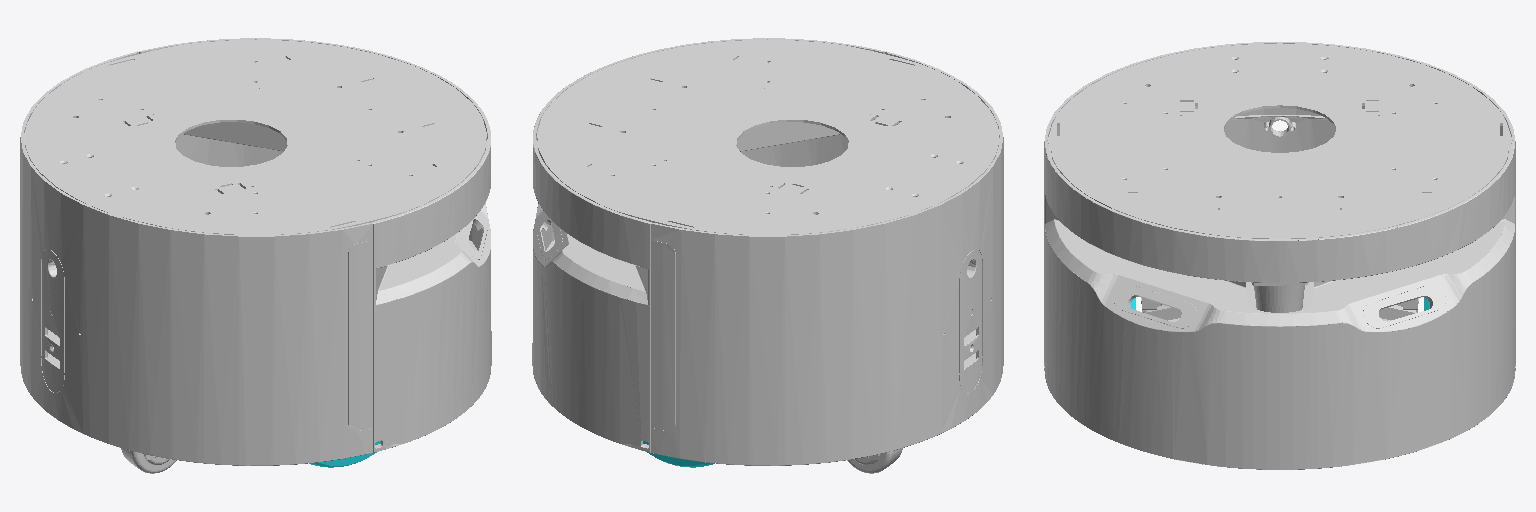
robot.urdf — openarm_base:
<?xml version="1.0" ?>
<!-- =================================================================================== -->
<!-- |    This document was autogenerated by xacro from urdf/robot/base.urdf.xacro     | -->
<!-- |    EDITING THIS FILE BY HAND IS NOT RECOMMENDED                                 | -->
<!-- =================================================================================== -->
<robot name="openarm_base">
  <material name="openarm_base_body_light">
    <color rgba="0.894117647058823 0.894117647058823 0.894117647058823 1"/>
  </material>
  <material name="openarm_base_drive_wheel_cyan">
    <color rgba="0.188235294117647 0.866666666666667 0.917647058823529 1"/>
  </material>
  <link name="world"/>
  <joint name="openarm_base_joint_to_world" type="fixed">
    <parent link="world"/>
    <child link="openarm_base_link"/>
    <origin rpy="0 0 0" xyz="0 0 0.39"/>
  </joint>
  <link name="openarm_base_link">
    <inertial>
      <origin rpy="0 0 0" xyz="0.0139877464492624 -5.68244441146032E-05 -0.124578208571542"/>
      <mass value="3.52850301341702"/>
      <inertia ixx="0.0829124179160909" ixy="6.52576053503441E-06" ixz="0.000467807221413584" iyy="0.0400047585590855" iyz="-5.94413923106993E-06" izz="0.098624358497588"/>
    </inertial>
    <visual>
      <origin rpy="0 0 0" xyz="0 0 0"/>
      <geometry>
        <mesh filename="package://openarm_description/meshes/base/visual/base_link.STL"/>
      </geometry>
      <material name="openarm_base_body_light"/>
    </visual>
    <collision>
      <origin rpy="0 0 0" xyz="0 0 0"/>
      <geometry>
        <mesh filename="package://openarm_description/meshes/base/collision/base_link.STL"/>
      </geometry>
    </collision>
  </link>
  <link name="openarm_base_right_drive_wheel_link">
    <inertial>
      <origin rpy="0 0 0" xyz="2.91165459323788E-11 -6.43526715232018E-07 0.0369779577265139"/>
      <mass value="1.14125095338992"/>
      <inertia ixx="0.00208401824386845" ixy="-1.79853323308109E-13" ixz="-1.90807139016711E-12" iyy="0.00208405095959488" iyz="5.27813516021113E-07" izz="0.00352927857061764"/>
    </inertial>
    <visual>
      <origin rpy="0 0 0" xyz="0 0 0"/>
      <geometry>
        <mesh filename="package://openarm_description/meshes/base/visual/right_drive_wheel_link.STL"/>
      </geometry>
      <material name="openarm_base_drive_wheel_cyan"/>
    </visual>
    <collision>
      <origin rpy="0 0 0" xyz="0 0 0"/>
      <geometry>
        <mesh filename="package://openarm_description/meshes/base/collision/right_drive_wheel_link.STL"/>
      </geometry>
    </collision>
  </link>
  <joint name="openarm_base_right_drive_wheel_joint" type="continuous">
    <origin rpy="-1.5707963267949 0 0" xyz="-0.00217824370780602 -0.218924944717817 -0.224330452201286"/>
    <parent link="openarm_base_link"/>
    <child link="openarm_base_right_drive_wheel_link"/>
    <axis xyz="0 0.000125537276711018 0.999999992120196"/>
  </joint>
  <link name="openarm_base_left_drive_wheel_link">
    <inertial>
      <origin rpy="0 0 0" xyz="-3.18491113710862E-11 -6.43526715214671E-07 -0.0369779577265139"/>
      <mass value="1.14125095338992"/>
      <inertia ixx="0.00208401824386845" ixy="1.96732400865809E-13" ixz="-2.08714142198925E-12" iyy="0.00208405095959488" iyz="-5.27813516020045E-07" izz="0.00352927857061764"/>
    </inertial>
    <visual>
      <origin rpy="0 0 0" xyz="0 0 0"/>
      <geometry>
        <mesh filename="package://openarm_description/meshes/base/visual/left_drive_wheel_link.STL"/>
      </geometry>
      <material name="openarm_base_drive_wheel_cyan"/>
    </visual>
    <collision>
      <origin rpy="0 0 0" xyz="0 0 0"/>
      <geometry>
        <mesh filename="package://openarm_description/meshes/base/collision/left_drive_wheel_link.STL"/>
      </geometry>
    </collision>
  </link>
  <joint name="openarm_base_left_drive_wheel_joint" type="continuous">
    <origin rpy="-1.5707963267949 0 0" xyz="-0.00217793050105813 0.218879130112312 -0.224330452201204"/>
    <parent link="openarm_base_link"/>
    <child link="openarm_base_left_drive_wheel_link"/>
    <axis xyz="0 0.000125537276710988 -0.999999992120196"/>
  </joint>
  <link name="openarm_base_fr_caster_link">
    <inertial>
      <origin rpy="0 0 0" xyz="-0.0210296737391897 2.66276711600594E-05 -0.0404565446191801"/>
      <mass value="0.174999250427368"/>
      <inertia ixx="8.59598402931729E-05" ixy="1.30108354990252E-07" ixz="-7.86718942953962E-06" iyy="9.65979989897865E-05" iyz="2.17811240261892E-07" izz="7.64688653952788E-05"/>
    </inertial>
    <visual>
      <origin rpy="0 0 0" xyz="0 0 0"/>
      <geometry>
        <mesh filename="package://openarm_description/meshes/base/visual/fr_caster_link.STL"/>
      </geometry>
      <material name="openarm_base_body_light"/>
    </visual>
    <collision>
      <origin rpy="0 0 0" xyz="0 0 0"/>
      <geometry>
        <mesh filename="package://openarm_description/meshes/base/collision/fr_caster_link.STL"/>
      </geometry>
    </collision>
  </link>
  <joint name="openarm_base_fr_caster_joint" type="continuous">
    <origin rpy="0 0 0" xyz="0.149800623917563 -0.0925229073028034 -0.2186"/>
    <parent link="openarm_base_link"/>
    <child link="openarm_base_fr_caster_link"/>
    <axis xyz="0 0 1"/>
  </joint>
  <link name="openarm_base_fr_wheel_link">
    <inertial>
      <origin rpy="0 0 0" xyz="-3.97836671182927E-05 -9.02813330067032E-06 -0.00149999999415462"/>
      <mass value="0.109320570218184"/>
      <inertia ixx="3.6860500337048E-05" ixy="-9.46425018050332E-09" ixz="1.95534990593222E-11" iyy="3.69224586520118E-05" iyz="3.31849367825639E-12" izz="4.97629238797921E-05"/>
    </inertial>
    <visual>
      <origin rpy="0 0 0" xyz="0 0 0"/>
      <geometry>
        <mesh filename="package://openarm_description/meshes/base/visual/fr_wheel_link.STL"/>
      </geometry>
      <material name="openarm_base_body_light"/>
    </visual>
    <collision>
      <origin rpy="0 0 0" xyz="0 0 0"/>
      <geometry>
        <mesh filename="package://openarm_description/meshes/base/collision/fr_wheel_link.STL"/>
      </geometry>
    </collision>
  </link>
  <joint name="openarm_base_fr_wheel_joint" type="continuous">
    <origin rpy="-1.5707963267949 0 0" xyz="-0.0314999999999983 0 -0.058"/>
    <parent link="openarm_base_fr_caster_link"/>
    <child link="openarm_base_fr_wheel_link"/>
    <axis xyz="0 0 1"/>
  </joint>
  <link name="openarm_base_fl_caster_link">
    <inertial>
      <origin rpy="0 0 0" xyz="-0.0210296737391897 2.66276711600594E-05 -0.0404565446191801"/>
      <mass value="0.174999250427368"/>
      <inertia ixx="8.59598402931729E-05" ixy="1.30108354990252E-07" ixz="-7.86718942953962E-06" iyy="9.65979989897865E-05" iyz="2.17811240261892E-07" izz="7.64688653952788E-05"/>
    </inertial>
    <visual>
      <origin rpy="0 0 0" xyz="0 0 0"/>
      <geometry>
        <mesh filename="package://openarm_description/meshes/base/visual/fl_caster_link.STL"/>
      </geometry>
      <material name="openarm_base_body_light"/>
    </visual>
    <collision>
      <origin rpy="0 0 0" xyz="0 0 0"/>
      <geometry>
        <mesh filename="package://openarm_description/meshes/base/collision/fl_caster_link.STL"/>
      </geometry>
    </collision>
  </link>
  <joint name="openarm_base_fl_caster_joint" type="continuous">
    <origin rpy="0 0 0" xyz="0.149800623917537 0.0924770926972476 -0.2186"/>
    <parent link="openarm_base_link"/>
    <child link="openarm_base_fl_caster_link"/>
    <axis xyz="0 0 1"/>
  </joint>
  <link name="openarm_base_fl_wheel_link">
    <inertial>
      <origin rpy="0 0 0" xyz="-3.97836671182927E-05 -9.02813330067032E-06 0.00150000000579448"/>
      <mass value="0.109320570218184"/>
      <inertia ixx="3.6860500337048E-05" ixy="-9.46425018050332E-09" ixz="1.95534990593222E-11" iyy="3.69224586520118E-05" iyz="3.31849367825639E-12" izz="4.97629238797921E-05"/>
    </inertial>
    <visual>
      <origin rpy="0 0 0" xyz="0 0 0"/>
      <geometry>
        <mesh filename="package://openarm_description/meshes/base/visual/fl_wheel_link.STL"/>
      </geometry>
      <material name="openarm_base_body_light"/>
    </visual>
    <collision>
      <origin rpy="0 0 0" xyz="0 0 0"/>
      <geometry>
        <mesh filename="package://openarm_description/meshes/base/collision/fl_wheel_link.STL"/>
      </geometry>
    </collision>
  </link>
  <joint name="openarm_base_fl_wheel_joint" type="continuous">
    <origin rpy="-1.5707963267949 0 0" xyz="-0.0314999999999983 0 -0.058"/>
    <parent link="openarm_base_fl_caster_link"/>
    <child link="openarm_base_fl_wheel_link"/>
    <axis xyz="0 0 1"/>
  </joint>
  <link name="openarm_base_br_caster_link">
    <inertial>
      <origin rpy="0 0 0" xyz="-0.0210296737391897 2.66276711600594E-05 -0.0404565446191801"/>
      <mass value="0.174999250427368"/>
      <inertia ixx="8.59598402931729E-05" ixy="1.30108354990252E-07" ixz="-7.86718942953962E-06" iyy="9.65979989897865E-05" iyz="2.17811240261892E-07" izz="7.64688653952788E-05"/>
    </inertial>
    <visual>
      <origin rpy="0 0 0" xyz="0 0 0"/>
      <geometry>
        <mesh filename="package://openarm_description/meshes/base/visual/br_caster_link.STL"/>
      </geometry>
      <material name="openarm_base_body_light"/>
    </visual>
    <collision>
      <origin rpy="0 0 0" xyz="0 0 0"/>
      <geometry>
        <mesh filename="package://openarm_description/meshes/base/collision/br_caster_link.STL"/>
      </geometry>
    </collision>
  </link>
  <joint name="openarm_base_br_caster_joint" type="continuous">
    <origin rpy="0 0 0" xyz="-0.152199376082463 -0.0940229073027524 -0.2186"/>
    <parent link="openarm_base_link"/>
    <child link="openarm_base_br_caster_link"/>
    <axis xyz="0 0 1"/>
  </joint>
  <link name="openarm_base_br_wheel_link">
    <inertial>
      <origin rpy="0 0 0" xyz="-3.97836671182927E-05 -9.02813330067032E-06 5.79430947666992e-12"/>
      <mass value="0.109320570218184"/>
      <inertia ixx="3.6860500337048E-05" ixy="-9.46425018050332E-09" ixz="1.95534990593222E-11" iyy="3.69224586520118E-05" iyz="3.31849367825639E-12" izz="4.97629238797921E-05"/>
    </inertial>
    <visual>
      <origin rpy="0 0 0" xyz="0 0 0"/>
      <geometry>
        <mesh filename="package://openarm_description/meshes/base/visual/br_wheel_link.STL"/>
      </geometry>
      <material name="openarm_base_body_light"/>
    </visual>
    <collision>
      <origin rpy="0 0 0" xyz="0 0 0"/>
      <geometry>
        <mesh filename="package://openarm_description/meshes/base/collision/br_wheel_link.STL"/>
      </geometry>
    </collision>
  </link>
  <joint name="openarm_base_br_wheel_joint" type="continuous">
    <origin rpy="-1.5707963267949 0 0" xyz="-0.0314999999999983 0 -0.058"/>
    <parent link="openarm_base_br_caster_link"/>
    <child link="openarm_base_br_wheel_link"/>
    <axis xyz="0 0 1"/>
  </joint>
  <link name="openarm_base_bl_caster_link">
    <inertial>
      <origin rpy="0 0 0" xyz="-0.0210296737391897 2.66276711600594E-05 -0.0404565446191801"/>
      <mass value="0.174999250427368"/>
      <inertia ixx="8.59598402931729E-05" ixy="1.30108354990252E-07" ixz="-7.86718942953962E-06" iyy="9.65979989897865E-05" iyz="2.17811240261892E-07" izz="7.64688653952788E-05"/>
    </inertial>
    <visual>
      <origin rpy="0 0 0" xyz="0 0 0"/>
      <geometry>
        <mesh filename="package://openarm_description/meshes/base/visual/bl_caster_link.STL"/>
      </geometry>
      <material name="openarm_base_body_light"/>
    </visual>
    <collision>
      <origin rpy="0 0 0" xyz="0 0 0"/>
      <geometry>
        <mesh filename="package://openarm_description/meshes/base/collision/bl_caster_link.STL"/>
      </geometry>
    </collision>
  </link>
  <joint name="openarm_base_bl_caster_joint" type="continuous">
    <origin rpy="0 0 0" xyz="-0.152199376082463 0.0939770926972477 -0.2186"/>
    <parent link="openarm_base_link"/>
    <child link="openarm_base_bl_caster_link"/>
    <axis xyz="0 0 1"/>
  </joint>
  <link name="openarm_base_bl_wheel_link">
    <inertial>
      <origin rpy="0 0 0" xyz="-3.97836671182927E-05 -9.02813330067032E-06 5.79435111003335e-12"/>
      <mass value="0.109320570218184"/>
      <inertia ixx="3.6860500337048E-05" ixy="-9.46425018050332E-09" ixz="1.95534990593222E-11" iyy="3.69224586520118E-05" iyz="3.31849367825639E-12" izz="4.97629238797921E-05"/>
    </inertial>
    <visual>
      <origin rpy="0 0 0" xyz="0 0 0"/>
      <geometry>
        <mesh filename="package://openarm_description/meshes/base/visual/bl_wheel_link.STL"/>
      </geometry>
      <material name="openarm_base_body_light"/>
    </visual>
    <collision>
      <origin rpy="0 0 0" xyz="0 0 0"/>
      <geometry>
        <mesh filename="package://openarm_description/meshes/base/collision/bl_wheel_link.STL"/>
      </geometry>
    </collision>
  </link>
  <joint name="openarm_base_bl_wheel_joint" type="continuous">
    <origin rpy="-1.5707963267949 0 0" xyz="-0.0314999999999983 0 -0.058"/>
    <parent link="openarm_base_bl_caster_link"/>
    <child link="openarm_base_bl_wheel_link"/>
    <axis xyz="0 0 1"/>
  </joint>
</robot>

--- Render facts (derived) ---
The picture shows the robot from 3 angles, left to right: view 1: azimuth 30°, elevation 25°; view 2: azimuth 150°, elevation 25°; view 3: azimuth 270°, elevation 25°; orthographic projection.
Robot: openarm_base — 12 links, 11 joints (10 continuous, 1 fixed); root link world; default pose: all joints at 0.
Visible links, largest first — view 1: openarm_base_link, openarm_base_br_wheel_link; view 2: openarm_base_link, openarm_base_bl_wheel_link; view 3: openarm_base_link.
Link boxes in pixels (x1,y1,x2,y2): openarm_base_link: (20,38,491,465); openarm_base_br_wheel_link: (121,448,176,473); openarm_base_link: (532,38,1003,465); openarm_base_bl_wheel_link: (847,448,902,473); openarm_base_link: (1044,42,1515,469).
Bounding box of the posed robot: 0.5002 × 0.5 × 0.3093 m (x, y, z).
Meshes: 11 distinct files referenced, 11 mesh visuals loaded (11 binary STL).
